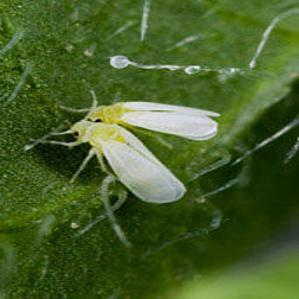Silverleaf whitefly: (59, 118, 186, 224), (79, 94, 227, 144)
